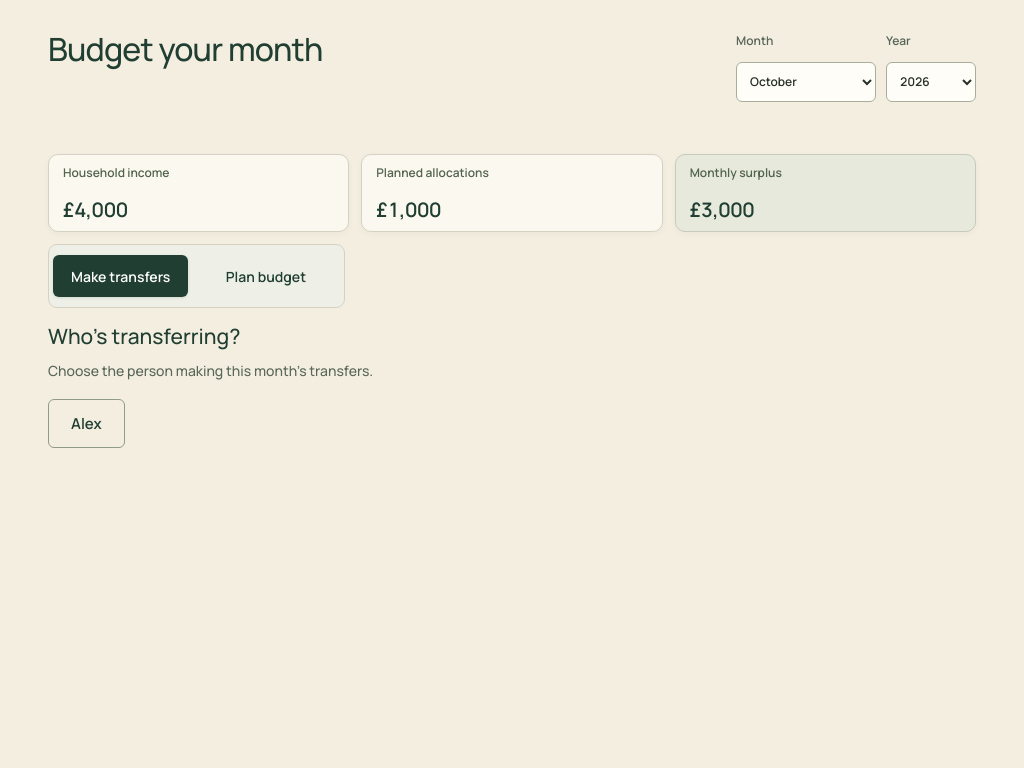
Test case: adds a monthly item to an existing destination and updates transfer summaries
The image size is (1024, 768).
Click the button "Plan budget" at point(266, 276), box [198,255,334,297]
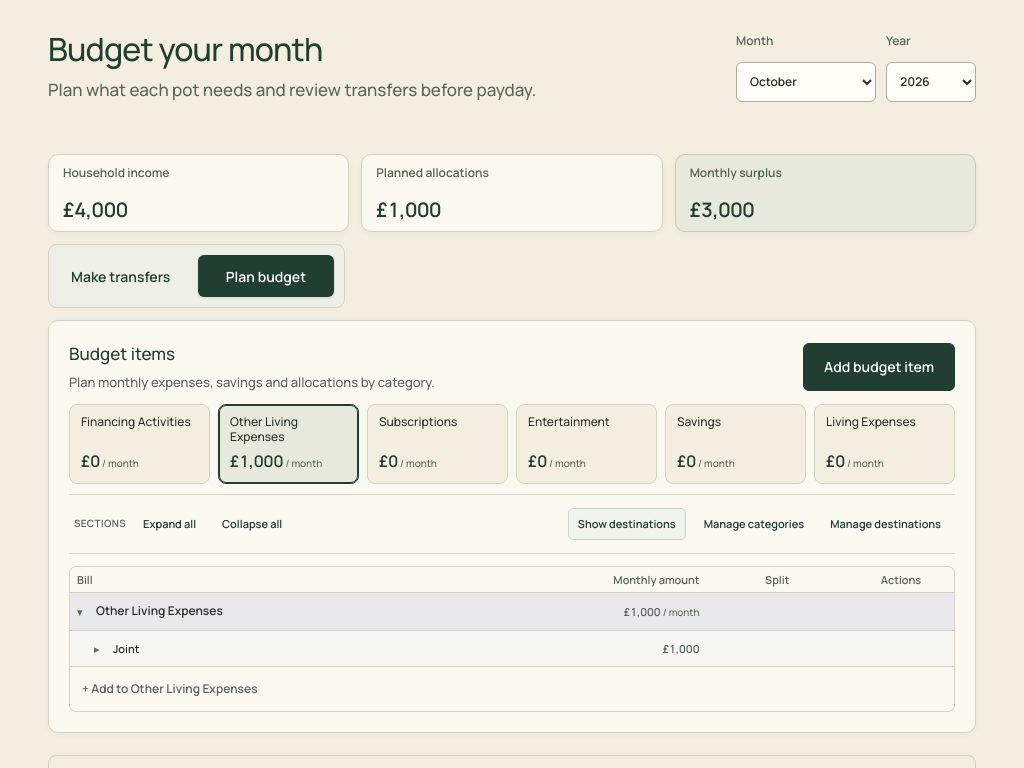
Check: the text "£1,000" is shown, box [376,195,441,221]
Click the button "Add budget item" at point(879, 367), box [803,343,955,391]
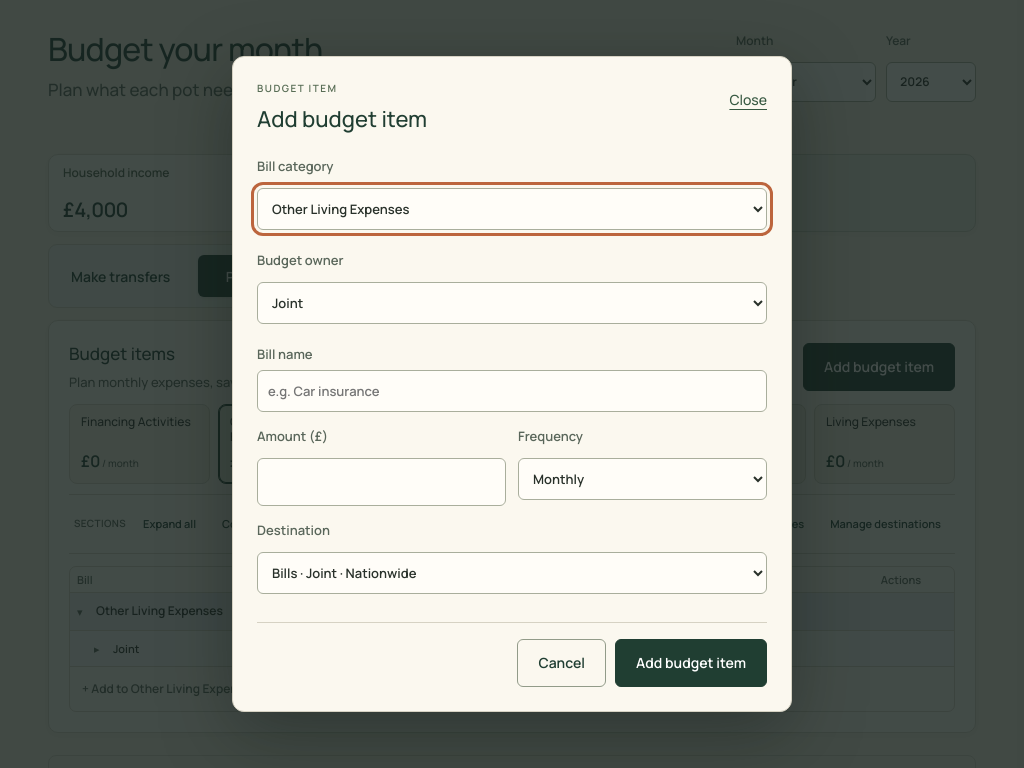
Select "Subscriptions" in the dropdown labelled "Bill category" at point(512, 209), box [257,188,767,230]
Type "Music" into the field labelled "Bill name" at point(512, 391), box [257,370,767,412]
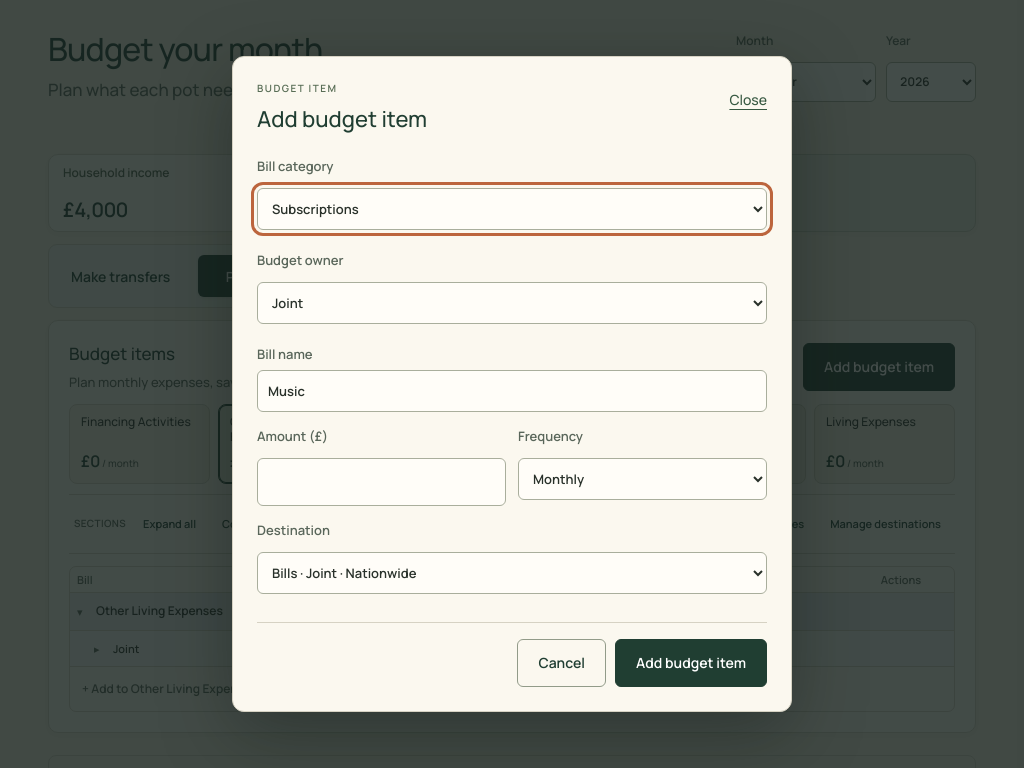
Type "12" into the number field named "Bill amount" at point(382, 482), box [257,458,506,506]
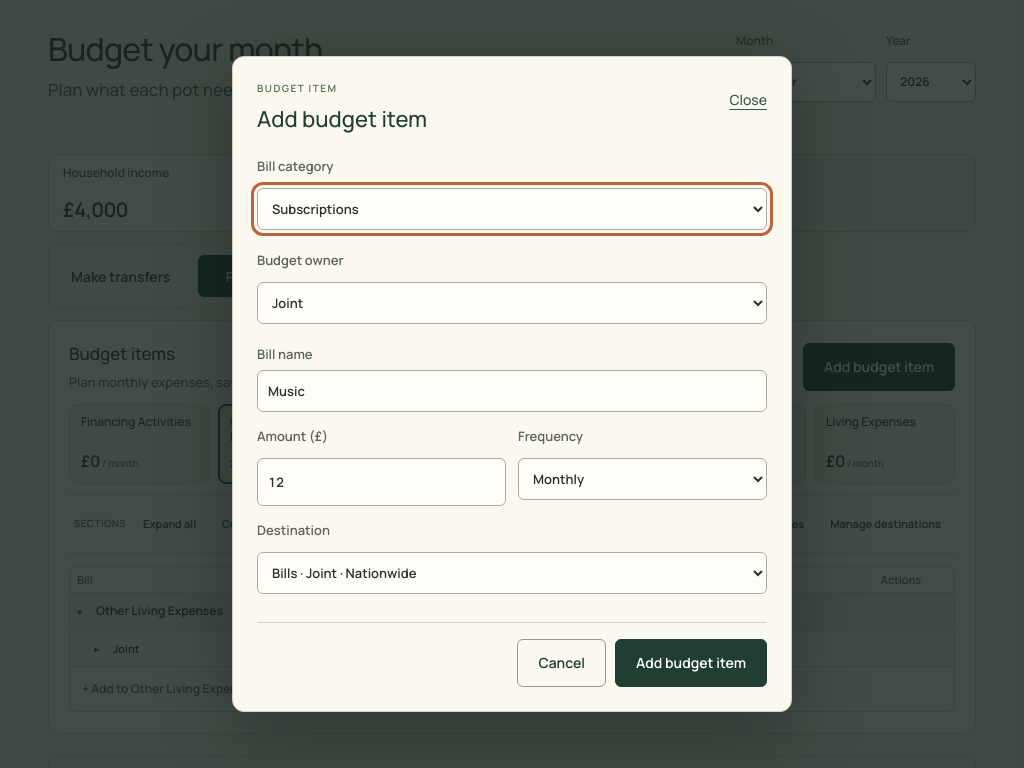
Select "Bills · Joint · Nationwide" in the dropdown named "Bill destination" at point(512, 573), box [257,552,767,594]
Click the button "Add budget item" at point(691, 663), box [615,639,767,687]
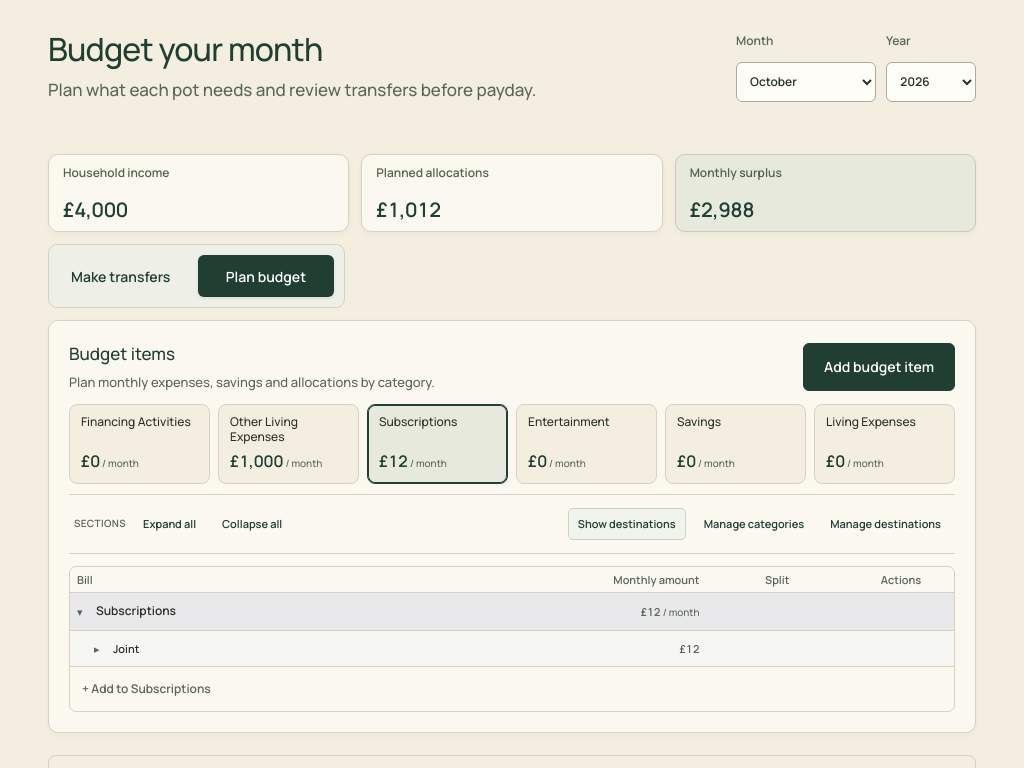
Click the button with aria-label "Expand Joint" at point(97, 649), box [94,642,523,655]
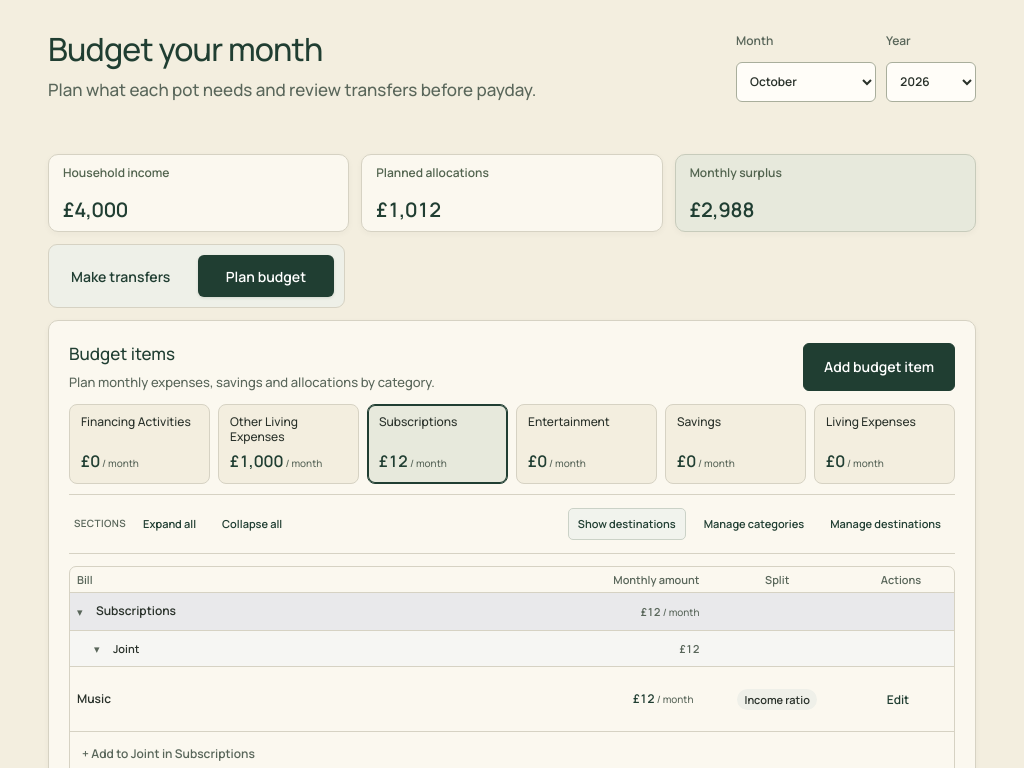
Check: the 1st text "£12" is shown, box [379,450,408,472]
Check: the text "Joint" is shown, box [113,642,139,655]
Check: the button with aria-label "Edit Music" is shown, box [881,688,915,711]
